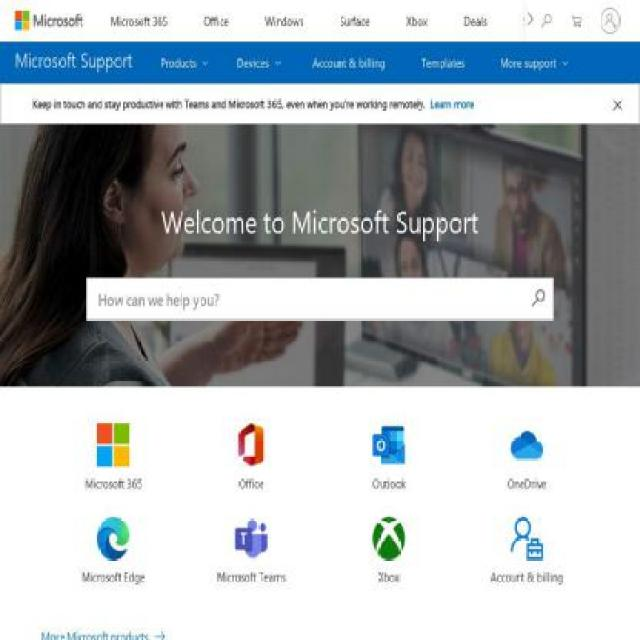button: (41, 615, 599, 639), (52, 423, 174, 494), (328, 423, 450, 494), (466, 423, 588, 494), (52, 516, 174, 587), (328, 516, 450, 587), (466, 516, 588, 587), (191, 423, 312, 494), (191, 516, 312, 587), (5, 42, 143, 82), (296, 42, 401, 82), (484, 42, 581, 82), (94, 1, 184, 41), (144, 42, 221, 82), (405, 42, 481, 82), (248, 1, 320, 41), (221, 42, 293, 82), (506, 1, 574, 41), (322, 1, 387, 41), (576, 1, 638, 41), (187, 1, 245, 41), (447, 1, 504, 41), (389, 1, 445, 41), (572, 2, 596, 40), (429, 95, 474, 112)
field: (86, 277, 554, 320)
